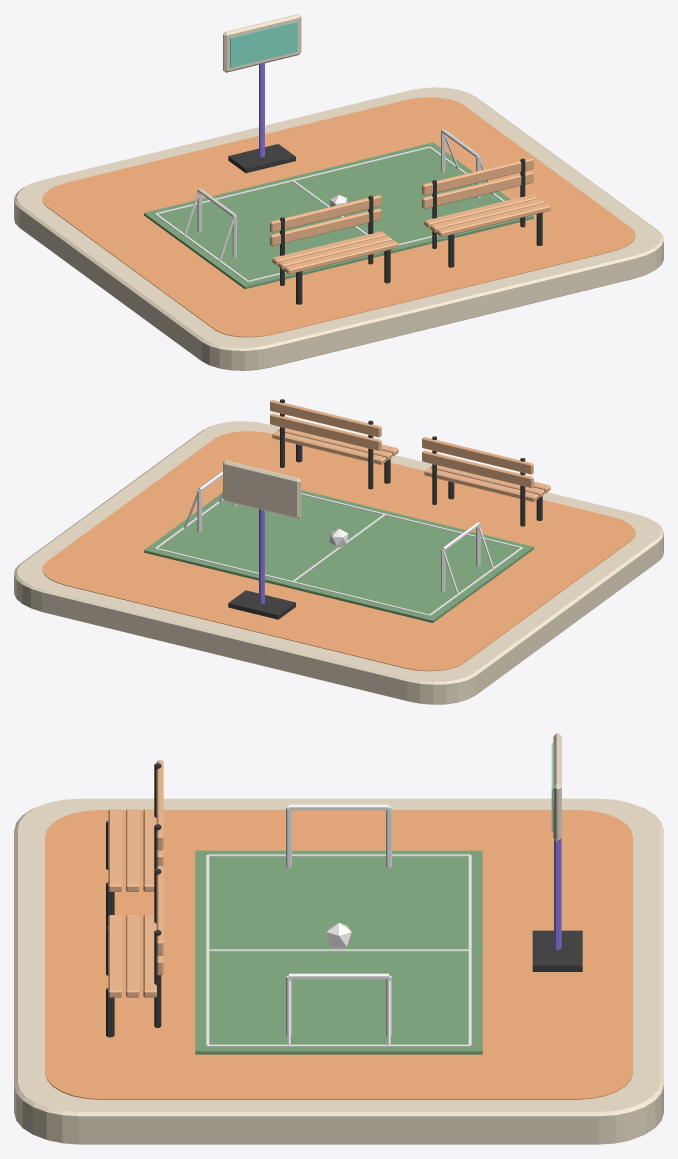
The picture shows the model from 3 angles, top to bottom: view 1: azimuth 30°, elevation 25°; view 2: azimuth 150°, elevation 25°; view 3: azimuth 270°, elevation 25°; orthographic projection. The views are drawn at different scales.
Parts seen in each view (by area): view 1: COM-02 Floor Surface, COM-01 Rounded Base Direct, Court surface, Inset, Sign panel, Back slat.003, Back slat, Back slat.001, Back slat.002, Foot, Seat slat.003, Seat slat (+6 smaller); view 2: COM-02 Floor Surface, COM-01 Rounded Base Direct, Court surface, Sign panel, Back slat.001, Back slat, Back slat.002, Back slat.003, Foot, Seat slat.002, Seat slat.005, Sideline.001 (+4 smaller); view 3: COM-02 Floor Surface, Court surface, COM-01 Rounded Base Direct, Foot, Seat slat, Seat slat.001, Seat slat.003, Seat slat.004, Seat slat.005, Seat slat.002, Sign panel, Stand (+9 smaller).
Boxes of the visible parts, <box> form: COM-02 Floor Surface: <box>42,97,635,337</box>; COM-01 Rounded Base Direct: <box>14,87,663,370</box>; Court surface: <box>144,142,533,289</box>; Inset: <box>230,21,297,67</box>; Sign panel: <box>223,14,301,72</box>; Back slat.003: <box>422,158,533,195</box>; Back slat: <box>270,208,381,246</box>; Back slat.001: <box>270,195,381,232</box>; Back slat.002: <box>422,171,533,208</box>; Foot: <box>228,144,295,173</box>; Seat slat.003: <box>436,203,550,237</box>; Seat slat: <box>284,240,398,274</box>; COM-02 Floor Surface: <box>42,431,635,671</box>; COM-01 Rounded Base Direct: <box>14,421,663,704</box>; Court surface: <box>144,490,533,622</box>; Sign panel: <box>223,460,301,518</box>; Back slat.001: <box>422,437,533,474</box>; Back slat: <box>422,450,533,488</box>; Back slat.002: <box>270,413,381,450</box>; Back slat.003: <box>270,400,381,437</box>; Foot: <box>228,590,295,619</box>; Seat slat.002: <box>424,468,538,502</box>; Seat slat.005: <box>272,431,386,464</box>; Sideline.001: <box>155,548,429,615</box>; COM-02 Floor Surface: <box>45,810,632,1099</box>; Court surface: <box>195,850,482,1054</box>; COM-01 Rounded Base Direct: <box>14,798,663,1144</box>; Foot: <box>532,930,582,971</box>; Seat slat: <box>108,809,121,891</box>; Seat slat.001: <box>126,809,139,891</box>; Seat slat.003: <box>108,915,121,997</box>; Seat slat.004: <box>126,915,139,997</box>; Seat slat.005: <box>143,915,156,997</box>; Seat slat.002: <box>143,809,156,891</box>; Sign panel: <box>553,733,561,841</box>; Stand: <box>554,839,561,949</box>.
Bounding box in the file's own units: 6 × 2.02 × 5.2.
1 material, 1 textured.
